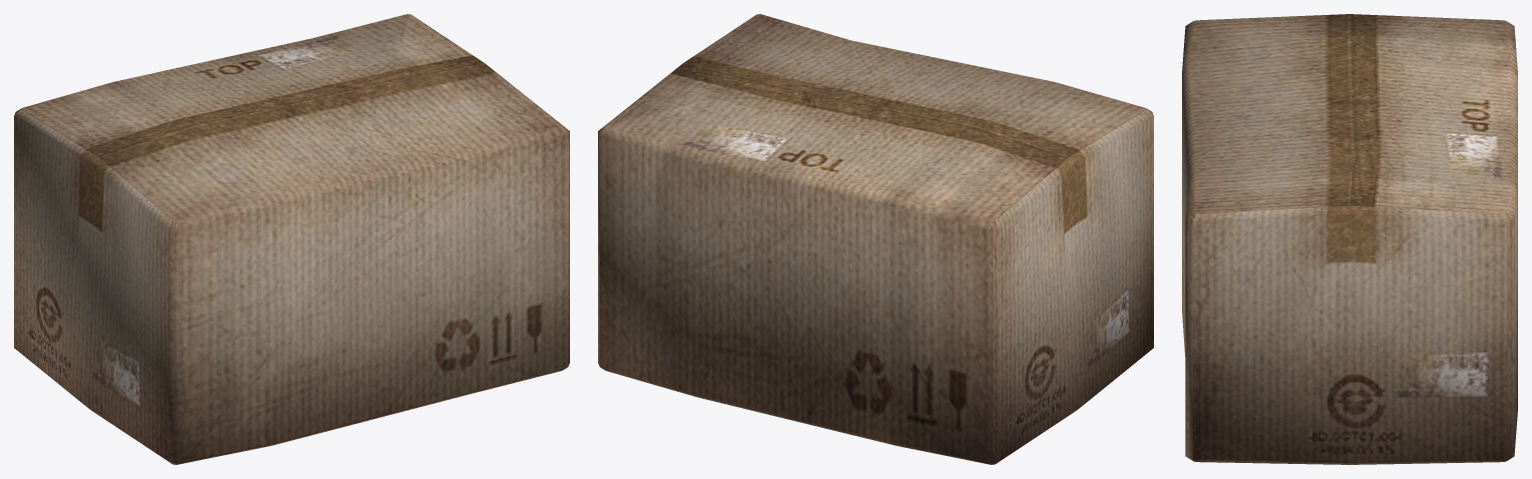
Rendered from kardbox.fbx.
3 views of the same model, side by side, from view 1: azimuth 30°, elevation 25°; view 2: azimuth 150°, elevation 25°; view 3: azimuth 270°, elevation 25° (orthographic).
Parts seen in each view (by area): view 1: kardbox1; view 2: kardbox1; view 3: kardbox1.
Part boxes in pixels (x1,y1,x2,y2): kardbox1: [14, 14, 569, 464]; kardbox1: [598, 14, 1153, 464]; kardbox1: [1182, 14, 1517, 464].
Bounding box in the file's own units: 762 × 461 × 527.
